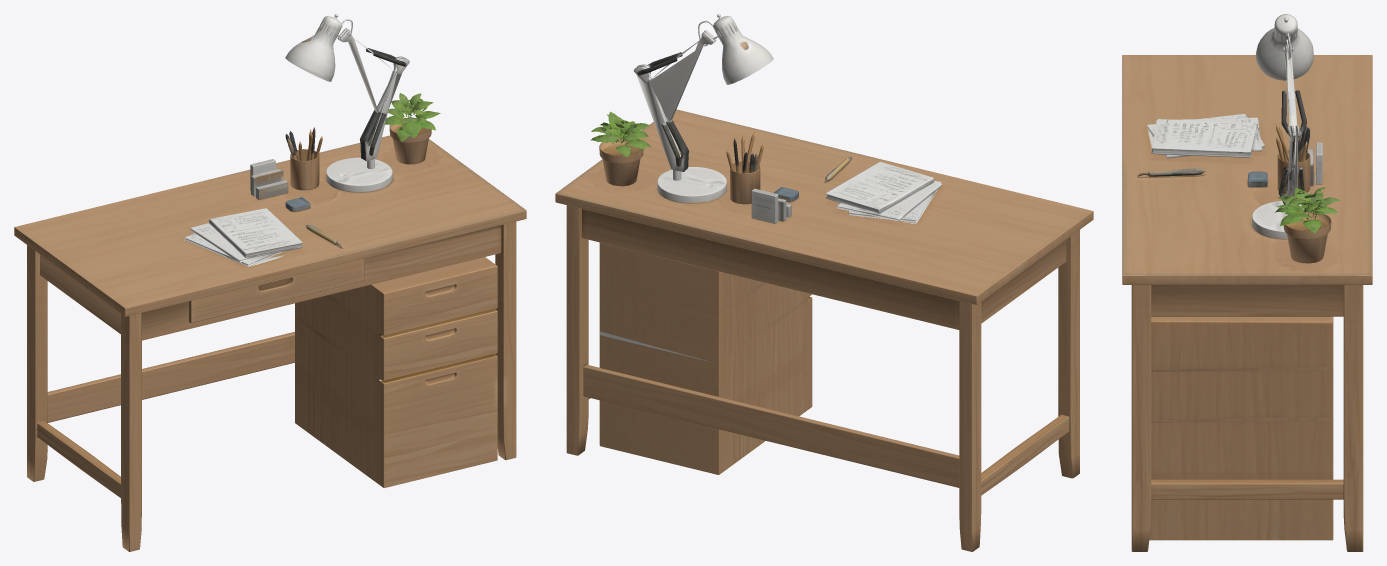
The model's file is desk.glb.
The picture shows the model from 3 angles, left to right: view 1: azimuth 30°, elevation 25°; view 2: azimuth 150°, elevation 25°; view 3: azimuth 270°, elevation 25°; orthographic projection. The views are drawn at different scales.
Visible parts, largest first — view 1: tripo_3b3073bb_76bc_405f_9348_0bf33dc06fd0; view 2: tripo_3b3073bb_76bc_405f_9348_0bf33dc06fd0; view 3: tripo_3b3073bb_76bc_405f_9348_0bf33dc06fd0.
Part boxes in pixels (bbox=[...]): tripo_3b3073bb_76bc_405f_9348_0bf33dc06fd0: bbox=[14, 14, 526, 551]; tripo_3b3073bb_76bc_405f_9348_0bf33dc06fd0: bbox=[555, 14, 1093, 551]; tripo_3b3073bb_76bc_405f_9348_0bf33dc06fd0: bbox=[1122, 14, 1372, 551].
Size of the model in its own units: 0.9985 by 0.9976 by 0.479.
1 material, 1 textured.
